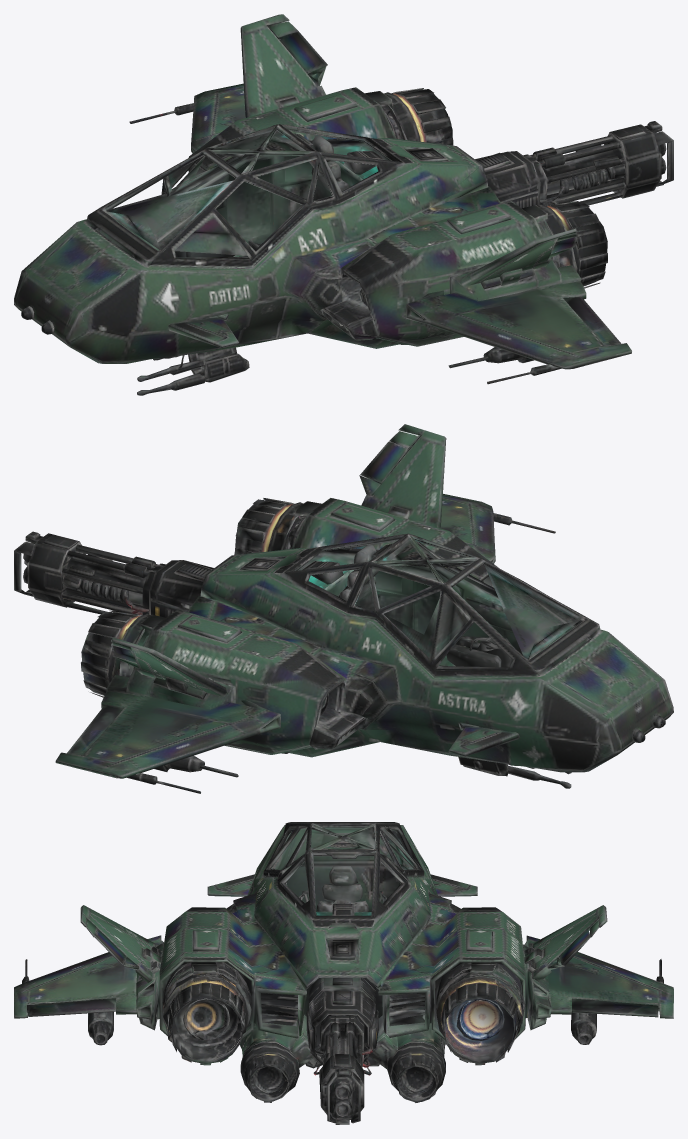
File: BUONO.glb
The picture shows the model from 3 angles, top to bottom: view 1: azimuth 30°, elevation 25°; view 2: azimuth 150°, elevation 25°; view 3: azimuth 270°, elevation 25°; orthographic projection. The views are drawn at different scales.
Bounding box in the file's own units: 0.9395 × 0.2998 × 0.9546.
1 material, 1 textured.
